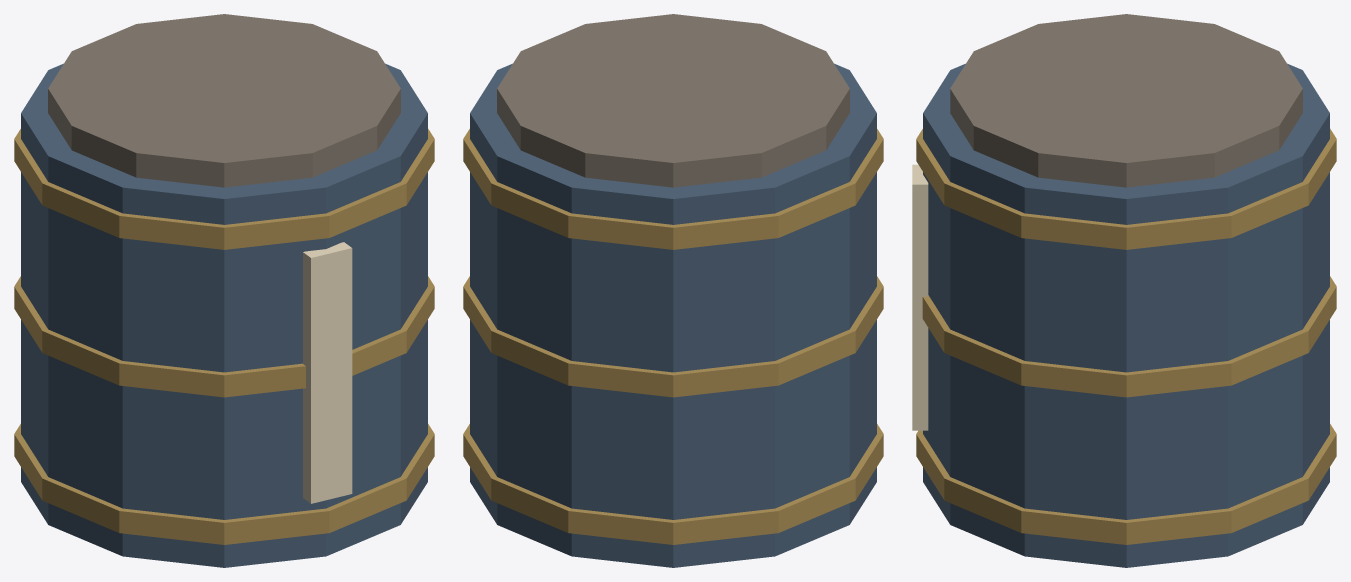
Rendered from works_tank.glb.
3 renders of one model, left to right at view 1: azimuth 30°, elevation 25°; view 2: azimuth 150°, elevation 25°; view 3: azimuth 270°, elevation 25°, orthographic.
Visible parts, largest first — view 1: tank, top, gauge, band.002, band, band.001; view 2: tank, top, band.002, band, band.001; view 3: tank, top, band.002, band, band.001, gauge.
Part boxes in pixels (x1,y1,x2,y2): tank: [21, 63, 427, 567]; top: [48, 14, 400, 187]; gauge: [303, 242, 352, 503]; band.002: [14, 129, 434, 249]; band: [14, 424, 434, 544]; band.001: [14, 276, 434, 397]; tank: [470, 63, 876, 567]; top: [497, 14, 849, 187]; band.002: [463, 129, 883, 249]; band: [463, 424, 883, 544]; band.001: [463, 276, 883, 397]; tank: [923, 63, 1329, 567]; top: [950, 14, 1302, 187]; band.002: [916, 128, 1336, 249]; band: [916, 424, 1336, 544]; band.001: [922, 276, 1336, 397]; gauge: [912, 164, 928, 430].
Size of the model in its own units: 3.1 by 3.2 by 3.13.
